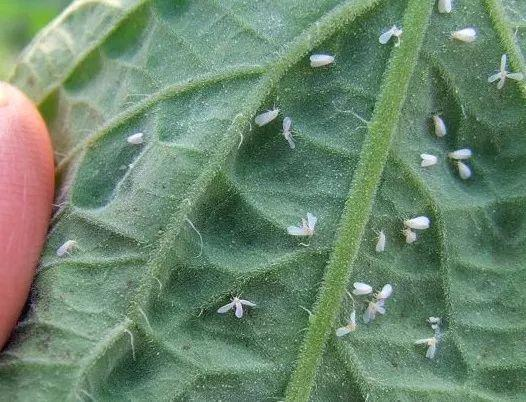Delphacidae: (217, 290, 256, 318), (285, 212, 318, 238), (254, 101, 280, 127), (334, 309, 357, 338), (360, 299, 386, 323), (279, 116, 297, 149), (415, 337, 438, 360), (55, 239, 80, 258), (401, 215, 430, 231), (451, 27, 478, 43), (309, 53, 337, 68), (371, 226, 386, 252), (454, 159, 472, 180), (430, 115, 447, 137), (374, 284, 395, 301), (351, 281, 373, 296), (400, 227, 416, 245), (447, 149, 472, 160), (419, 152, 437, 167), (125, 133, 144, 144)
